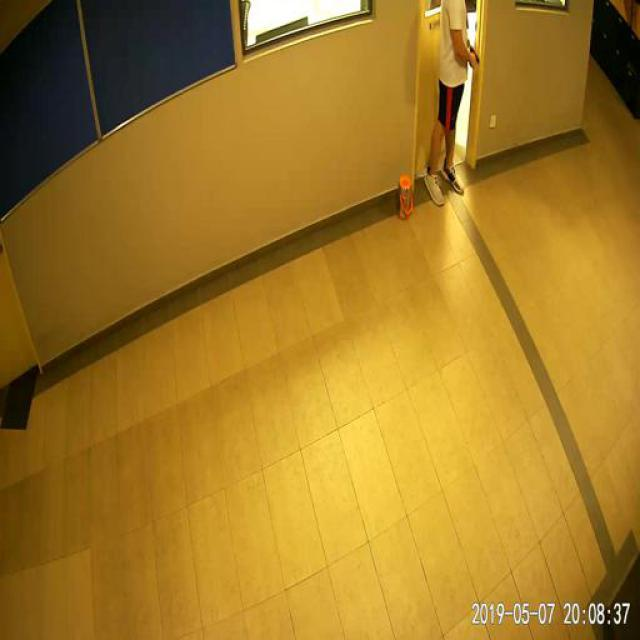Gun: (466, 41, 479, 69)
